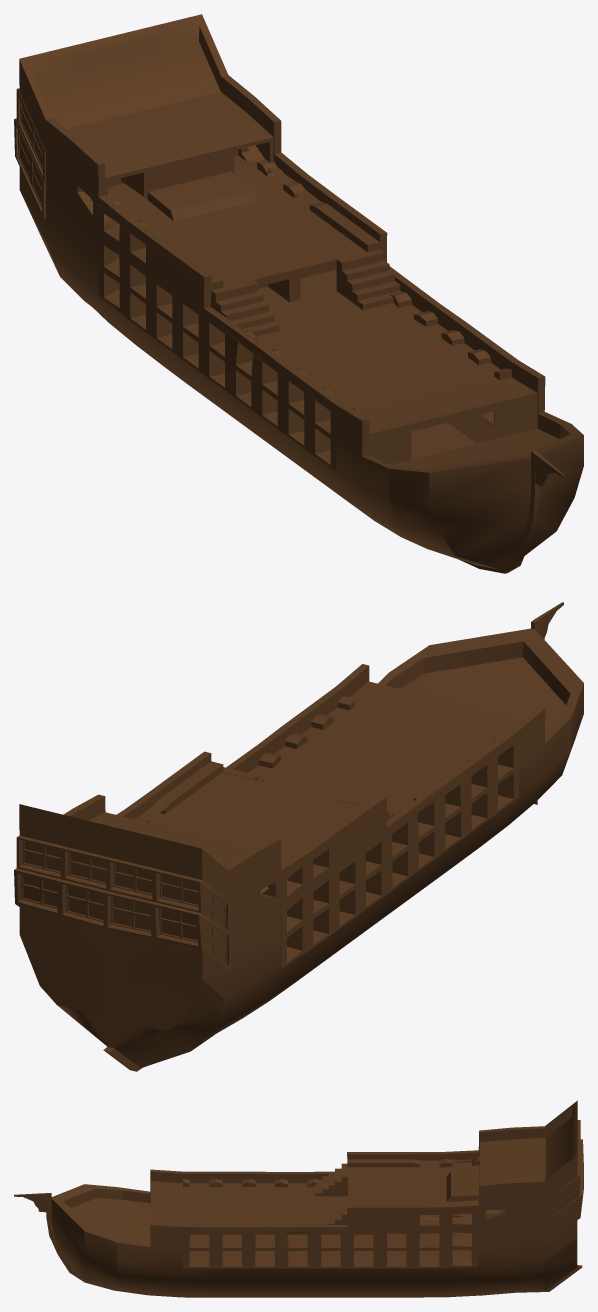
Rendered from ship.fbx.
The picture shows the model from 3 angles, top to bottom: view 1: azimuth 30°, elevation 25°; view 2: azimuth 150°, elevation 25°; view 3: azimuth 270°, elevation 25°; orthographic projection. The views are drawn at different scales.
Visible parts, largest first — view 1: Cube; view 2: Cube; view 3: Cube.
Boxes of the visible parts, x1,y1,x2,y2 form: Cube: (14, 14, 583, 573); Cube: (14, 602, 583, 1071); Cube: (14, 1100, 583, 1297).
Size of the model in its own units: 205 by 283 by 867.
